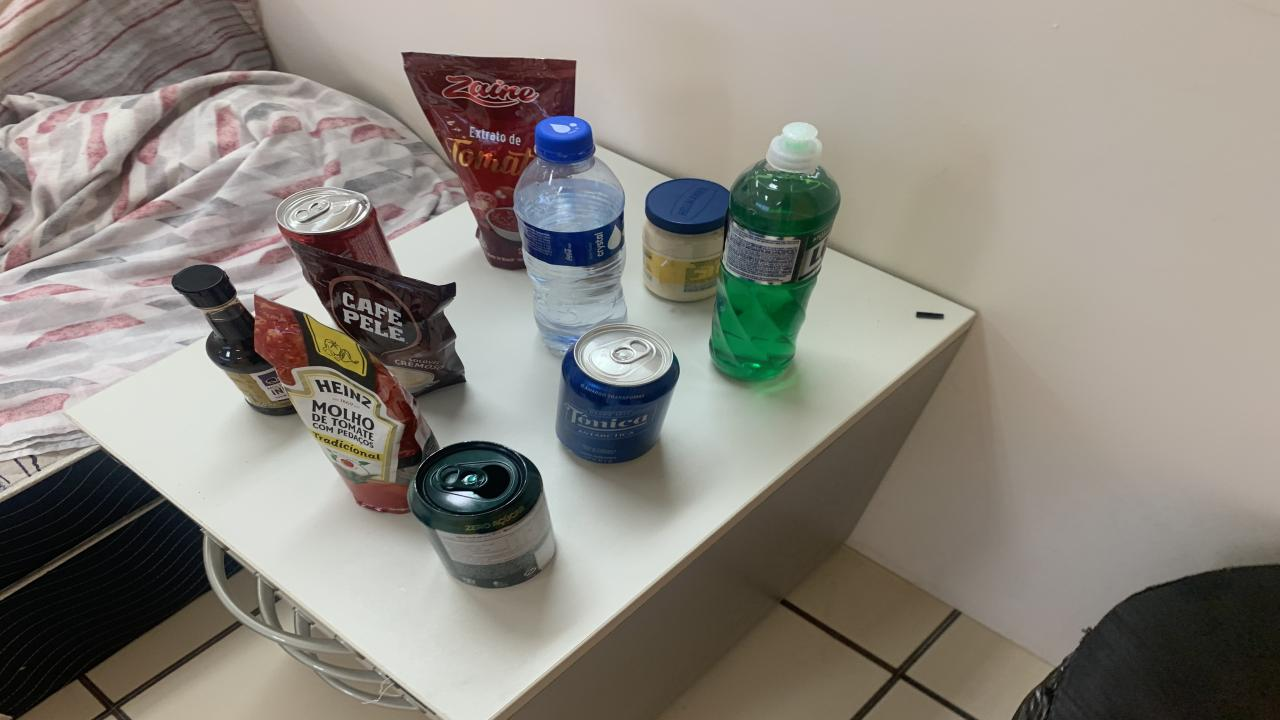Coffee-Pantry_Items: (295, 244, 465, 394)
Coke-Drinks: (275, 188, 400, 272)
Detergent-Cleanup_Items: (710, 122, 840, 381)
English_Sauce-Pantry_Items: (170, 264, 295, 414)
Guarana_Can-Drinks: (408, 441, 555, 589)
Mayonnaise-Pantry_Items: (642, 178, 730, 302)
Tomato_Sauce-Pantry_Items: (255, 298, 438, 512), (402, 52, 575, 270)
Tonic-Drinks: (555, 324, 680, 463)
Water_Bottle-Drinks: (515, 114, 628, 354)
